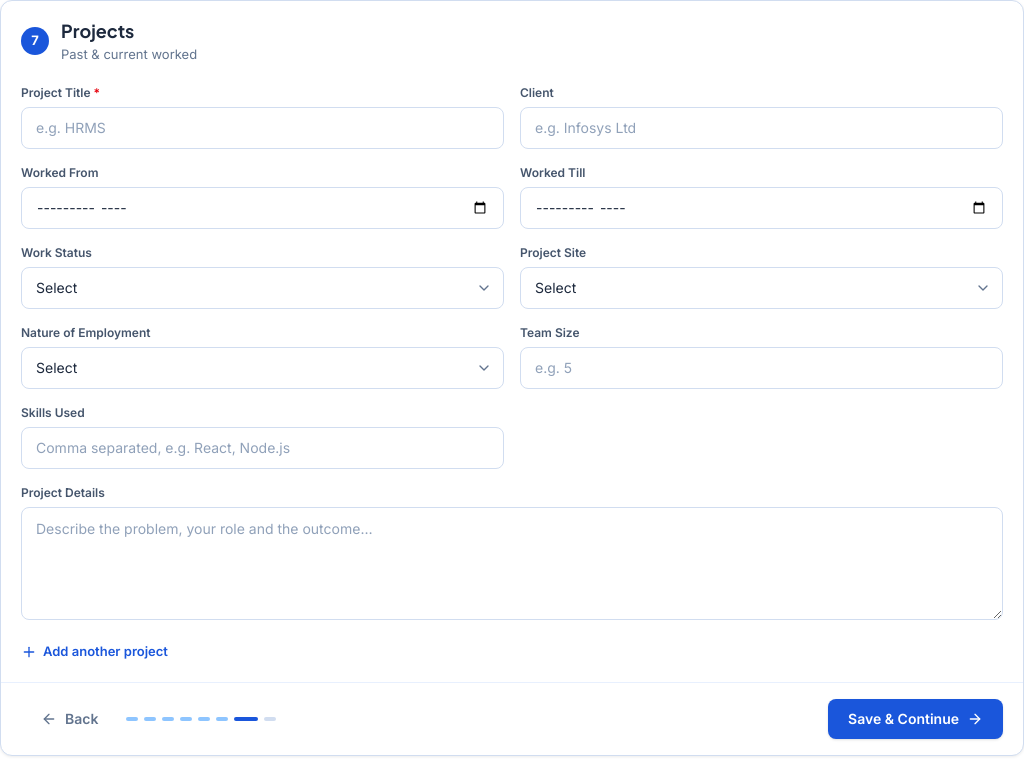
it: ProjectsStep › refuses a Worked Till earlier than Worked From
The image size is (1024, 768).
Type "HRMS" into the field labelled "Project Title *" at point(262, 128), box [21, 106, 504, 148]
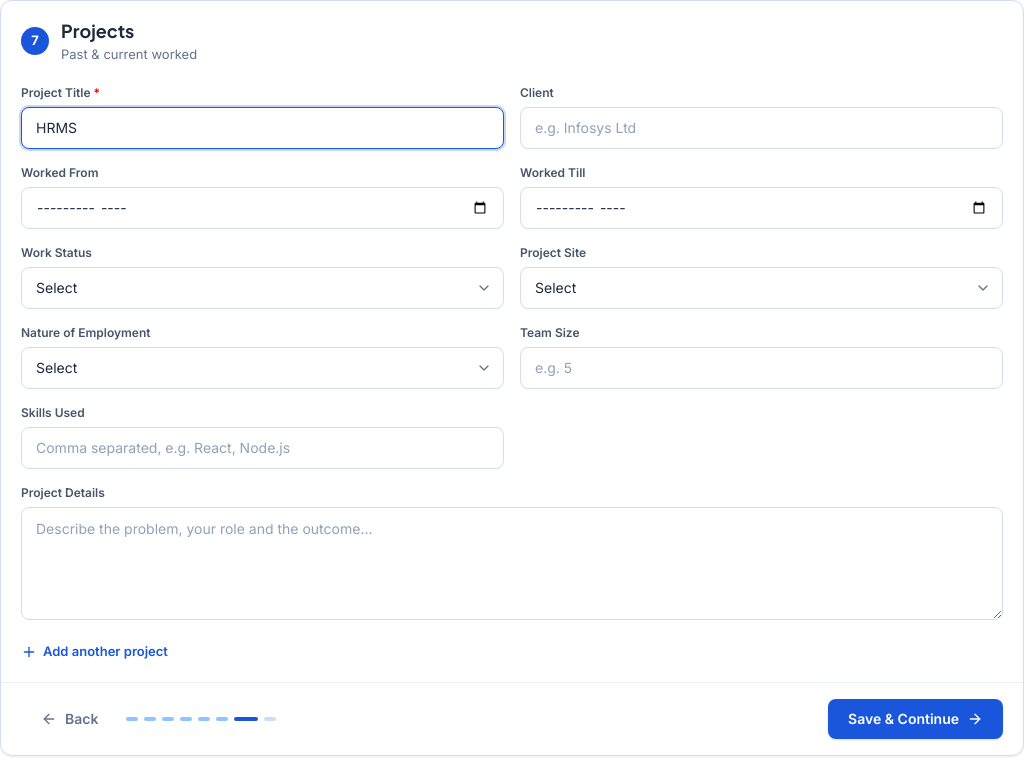
Type "2026-01" into the field labelled "Worked From" at point(262, 208), box [21, 186, 504, 228]
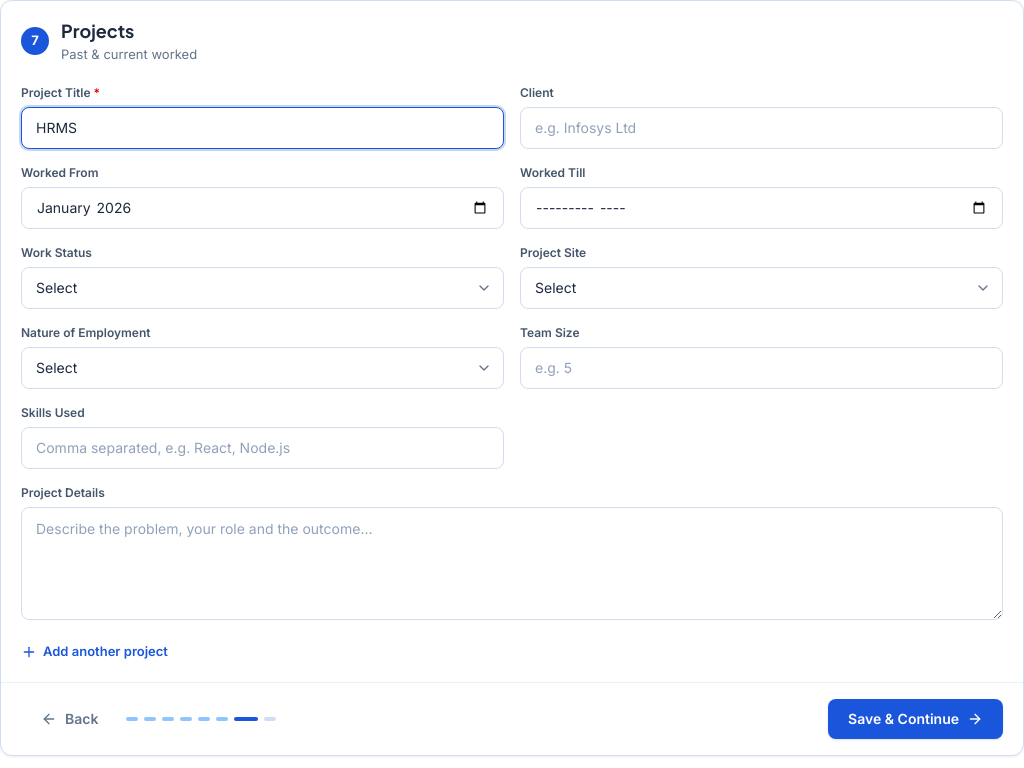
Type "2025-01" into the field labelled "Worked Till" at point(762, 208), box [520, 186, 1003, 228]
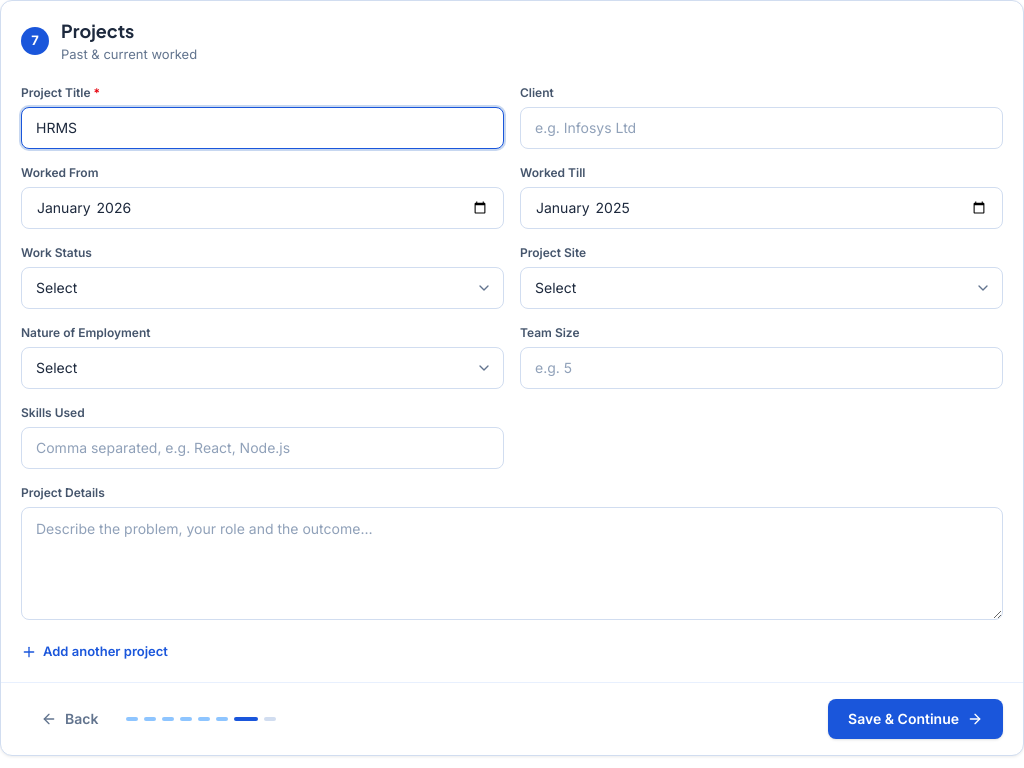
Click the button "Save & Continue" at point(916, 718), box [828, 698, 1003, 738]
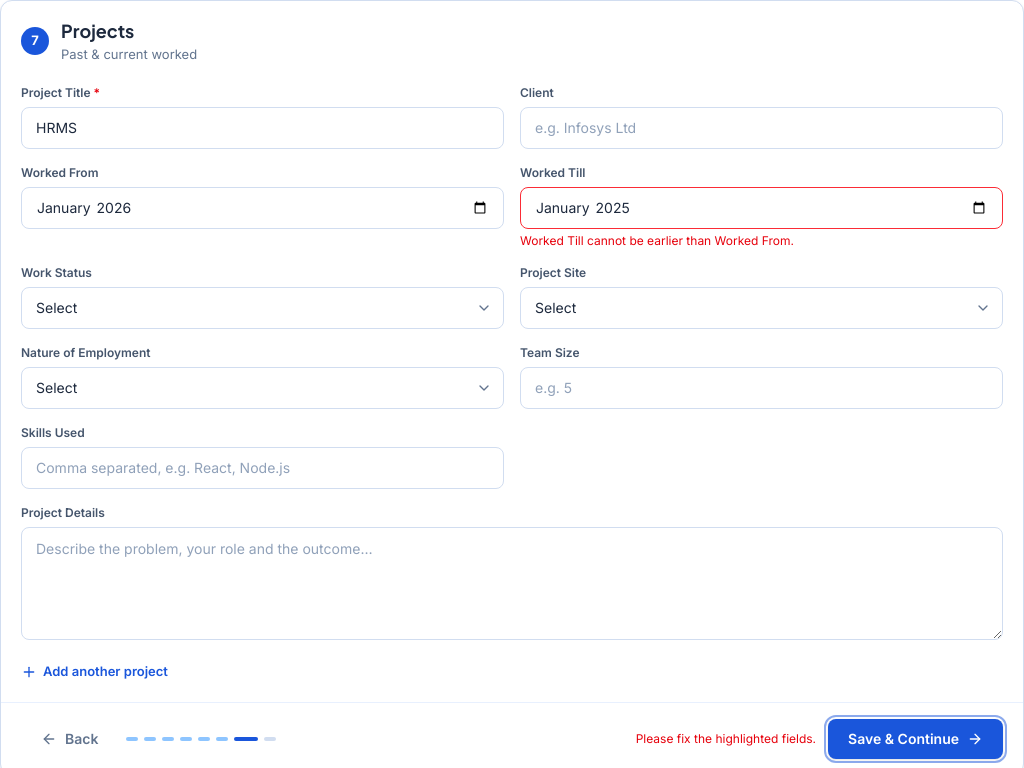
expect the text "Worked Till cannot be earlier than Worked From." is shown: met, box [520, 232, 794, 248]
